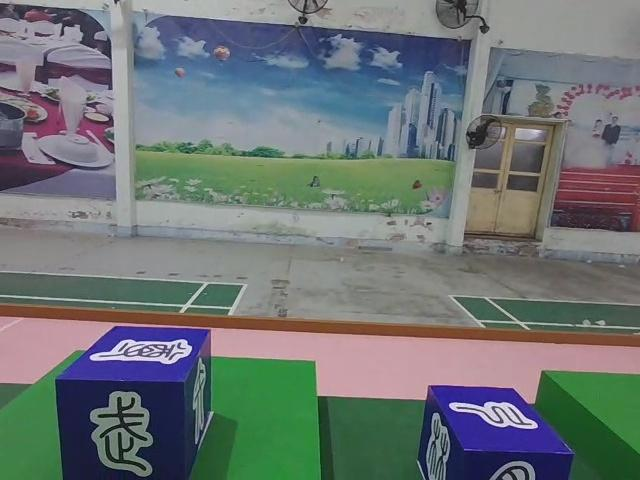R2 Fake Blue: (56, 326, 213, 480), (416, 386, 573, 480)
